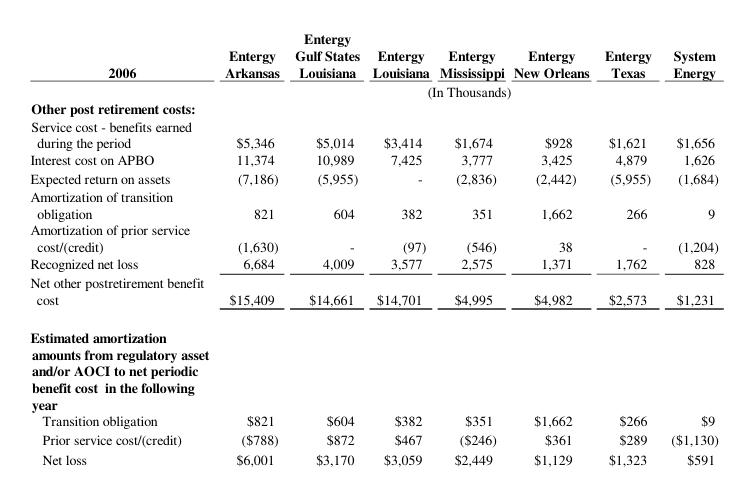table: (29, 28, 717, 467)
table column: (29, 28, 213, 467), (508, 28, 596, 467), (286, 28, 365, 467), (433, 28, 508, 467), (213, 28, 286, 467), (365, 28, 433, 467), (596, 28, 660, 467), (660, 28, 717, 467)
table column header: (29, 28, 717, 98)
table projected row header: (29, 317, 717, 411), (29, 98, 717, 116)
table row: (29, 317, 717, 411), (29, 28, 717, 81), (29, 271, 717, 317), (29, 116, 717, 150), (29, 186, 717, 220), (29, 220, 717, 253), (29, 167, 717, 186), (29, 429, 717, 448), (29, 448, 717, 467), (29, 98, 717, 116), (29, 253, 717, 271), (29, 411, 717, 429), (29, 81, 717, 98), (29, 150, 717, 167)
table spanning cell: (29, 28, 213, 98), (213, 81, 717, 98)
